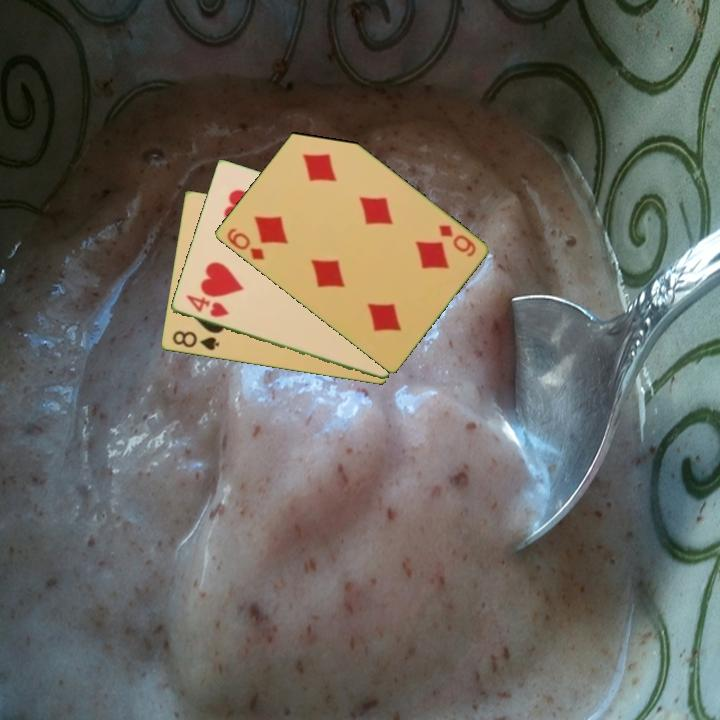4h: (182, 291, 232, 320)
6d: (223, 224, 267, 263), (434, 221, 478, 260)
8s: (168, 327, 222, 354)
